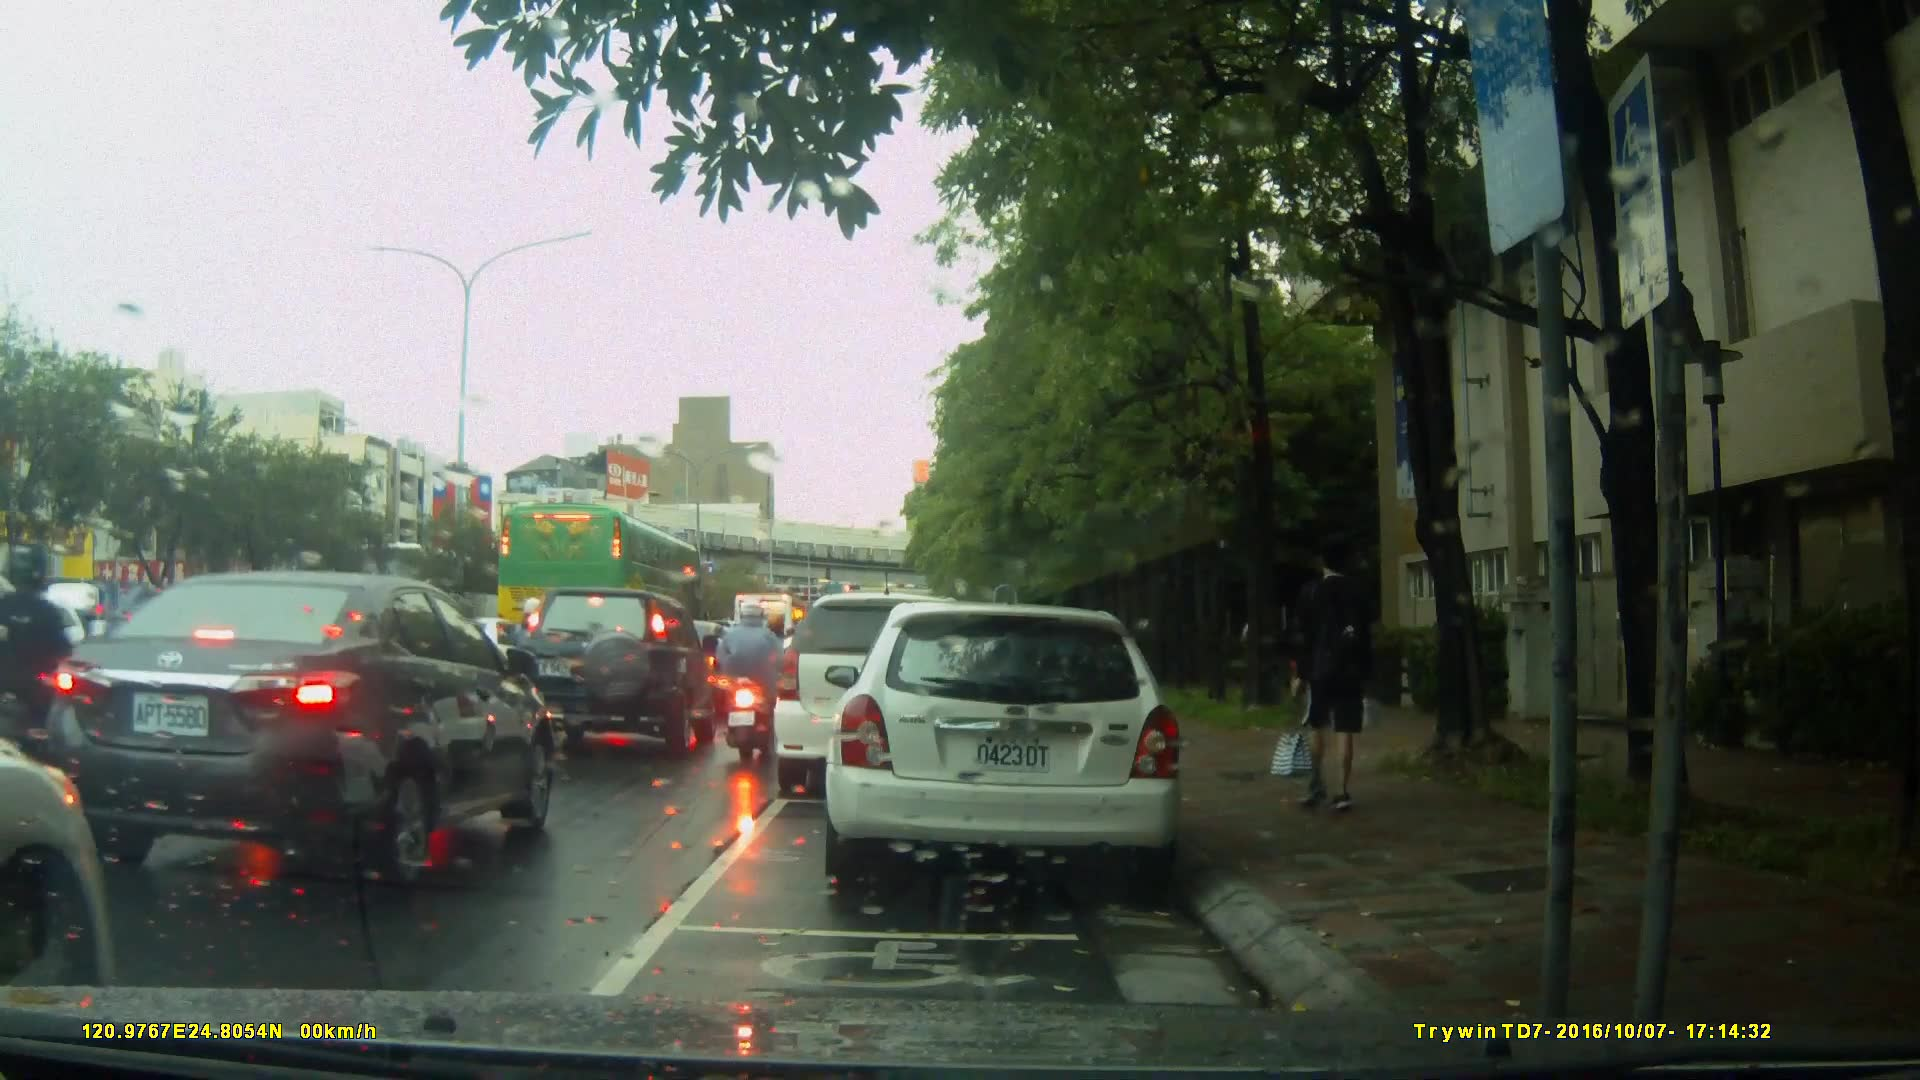pedestrian: (1271, 548, 1387, 825)
rider: (3, 540, 121, 804), (721, 598, 797, 759), (755, 612, 801, 729)
vehicle: (42, 568, 554, 898), (831, 592, 1196, 897), (770, 592, 999, 799), (515, 583, 717, 756), (495, 501, 707, 655)
